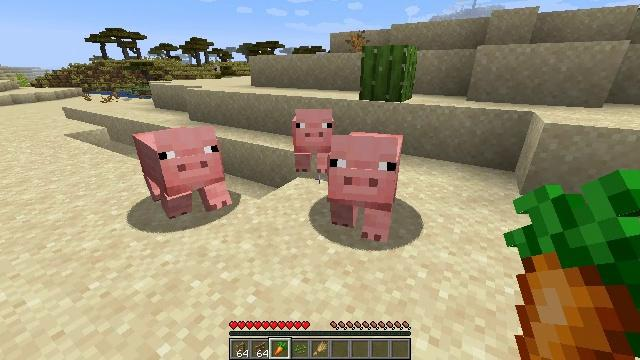pig: (134, 128, 229, 218), (331, 134, 398, 241), (295, 108, 329, 173)
